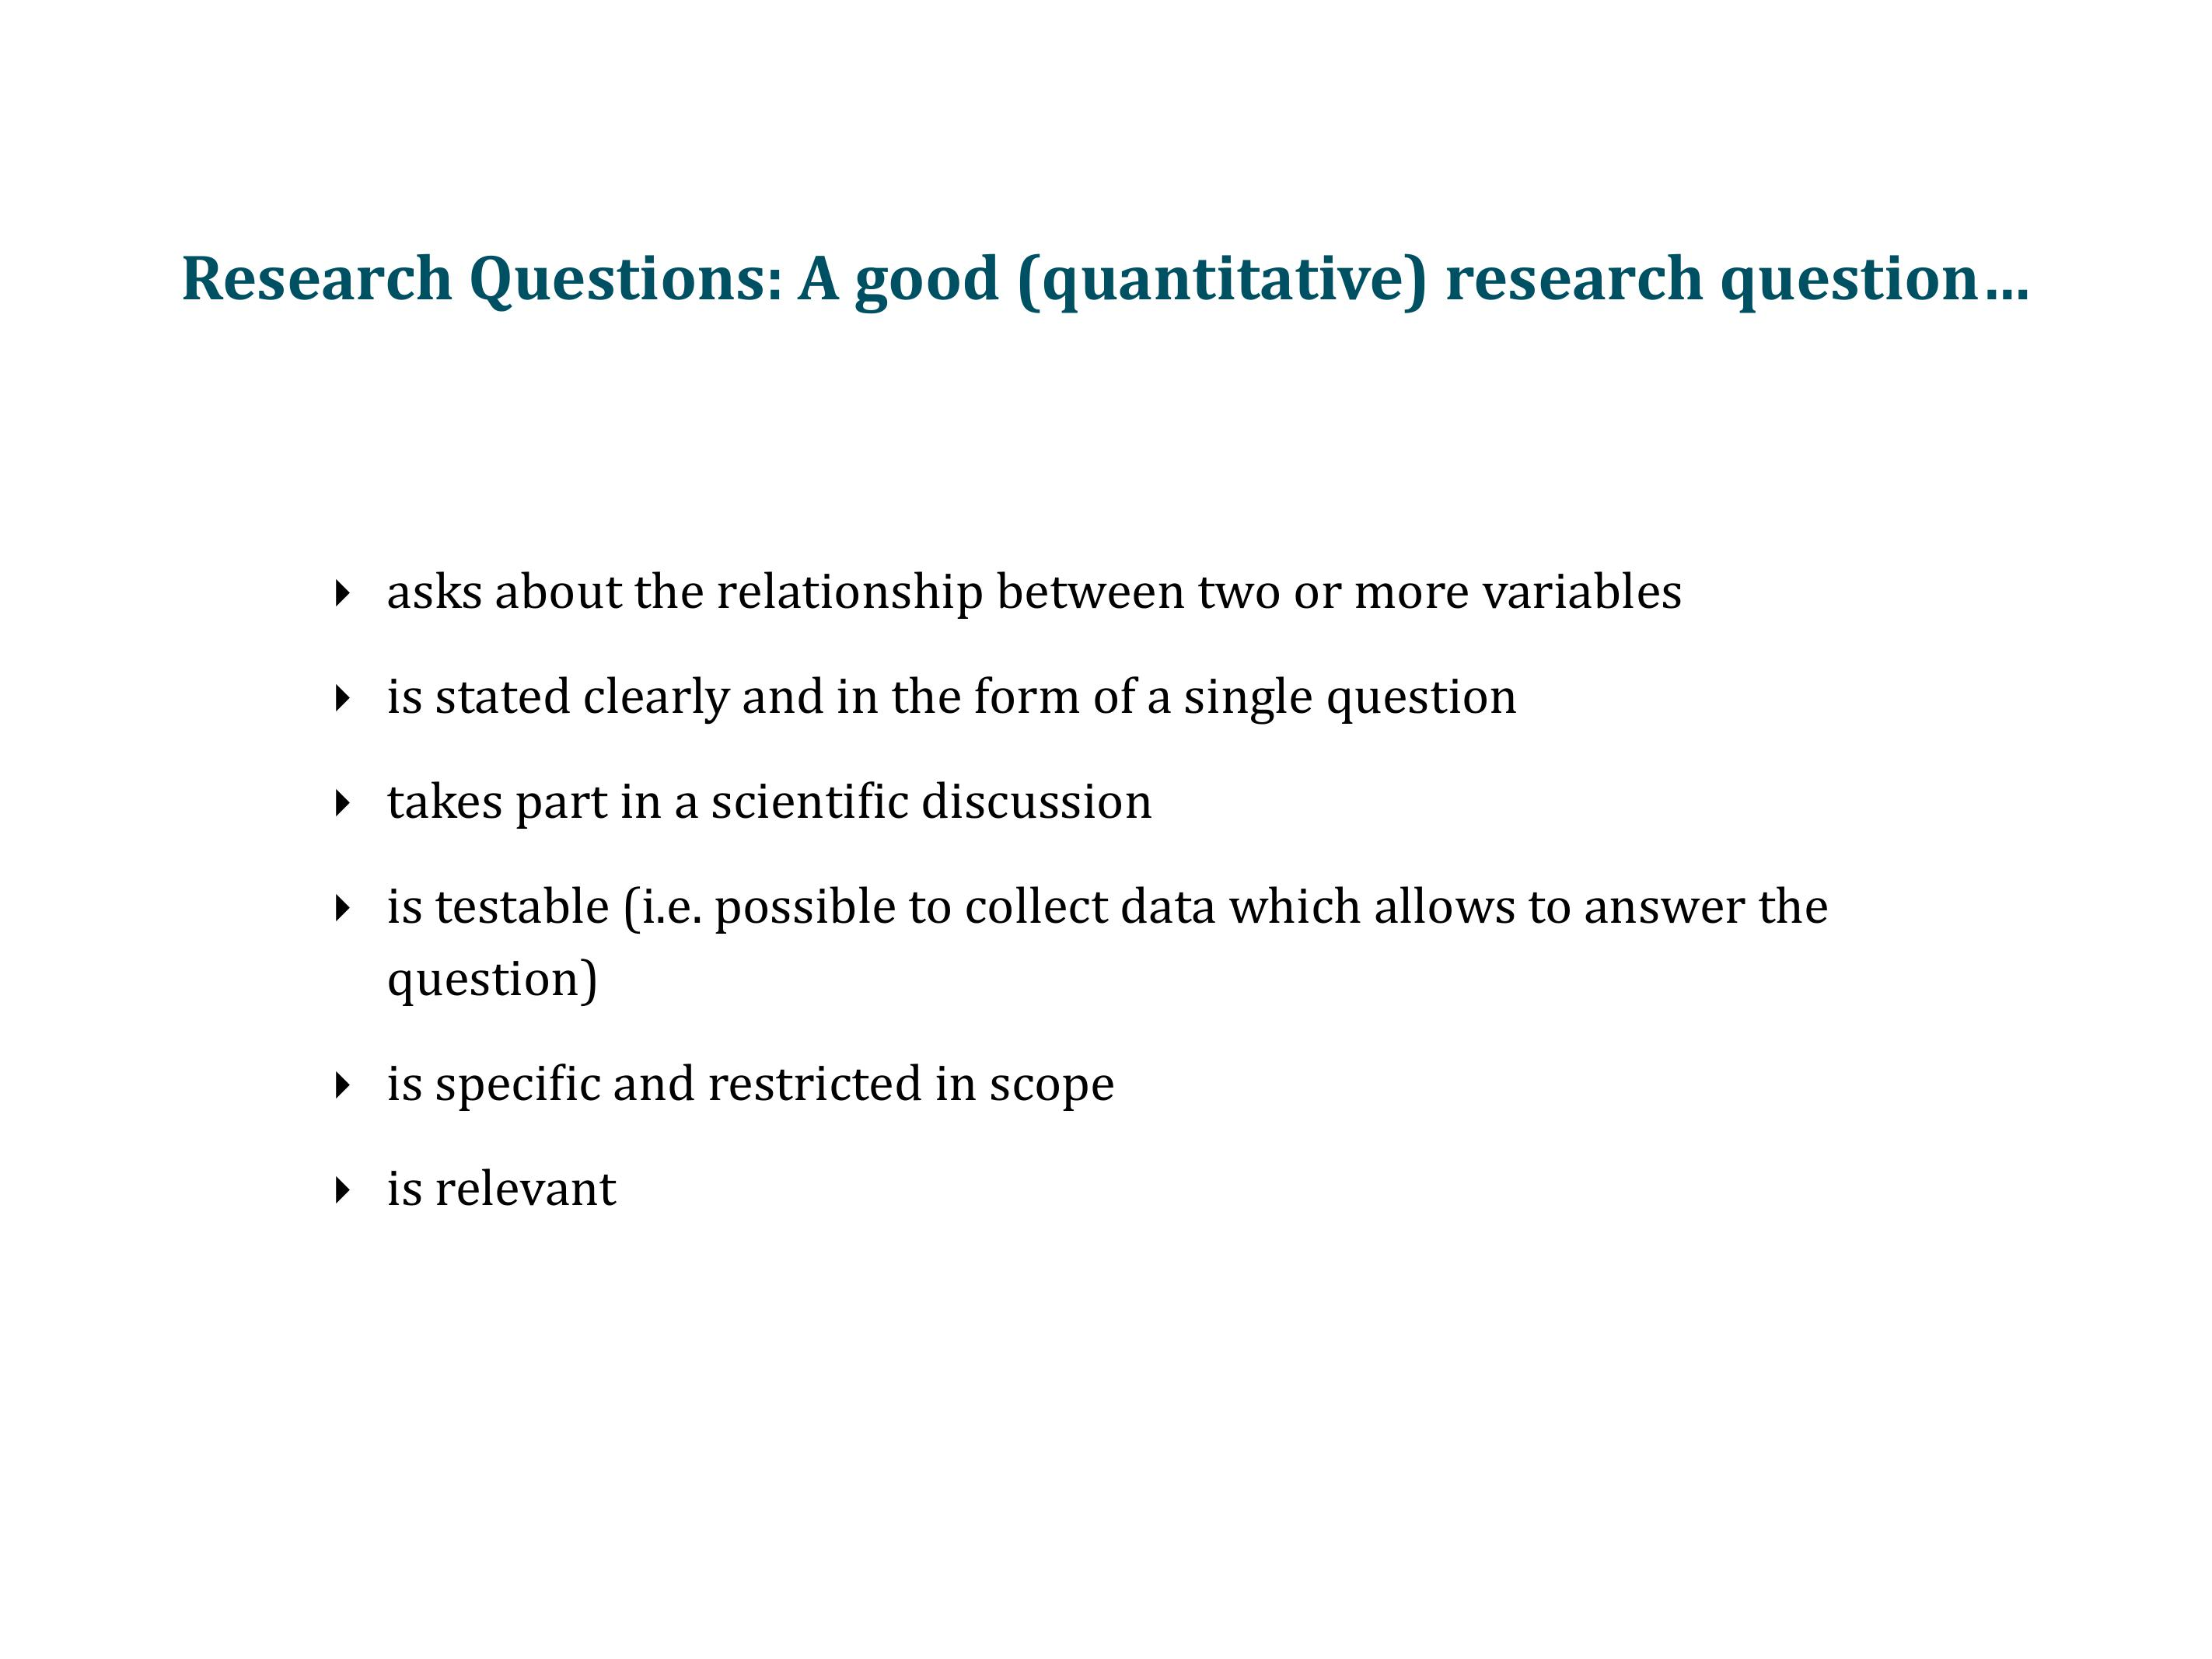Title: (173, 239, 2053, 324)
